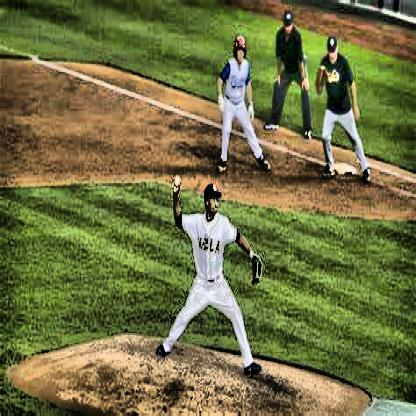baseball: (173, 176, 184, 190)
